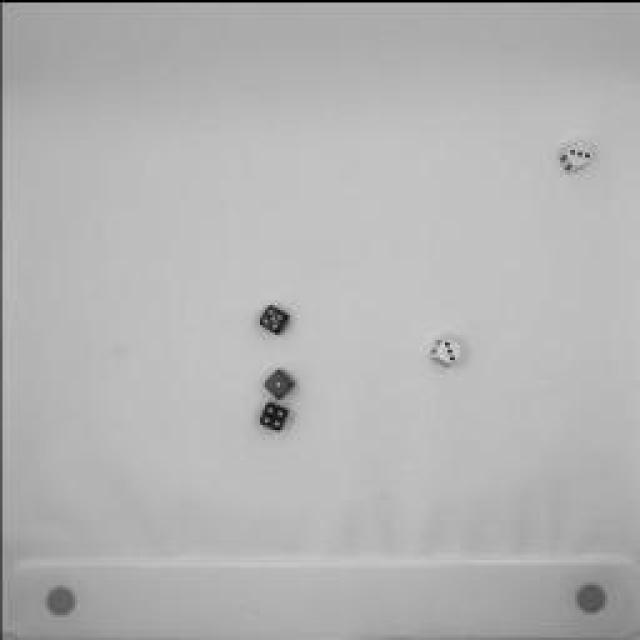dice_1: (258, 361, 300, 401)
dice_3: (555, 135, 597, 177), (426, 331, 466, 369)
dice_4: (255, 396, 290, 434)
dice_5: (255, 300, 293, 335)
